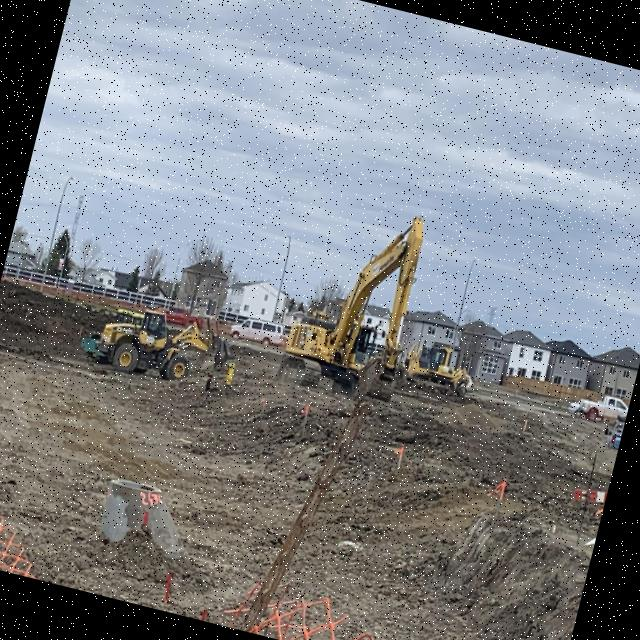Excavator: (276, 196, 448, 412)
Loader: (80, 290, 240, 407)
